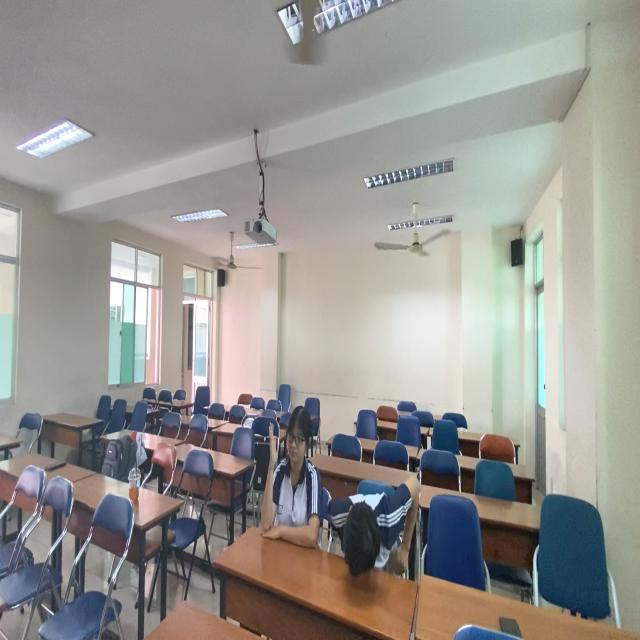raise_hand: (255, 405, 325, 540)
sleep: (326, 462, 430, 593)
